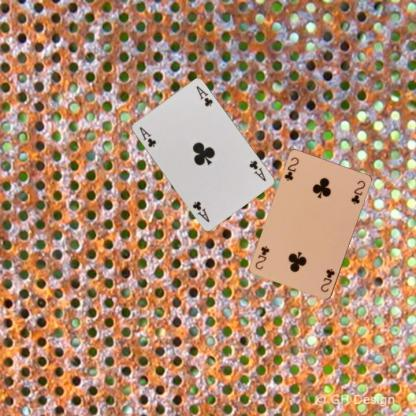2c: (318, 266, 336, 294), (282, 155, 300, 182)
Ac: (136, 124, 158, 149), (246, 158, 267, 182)
